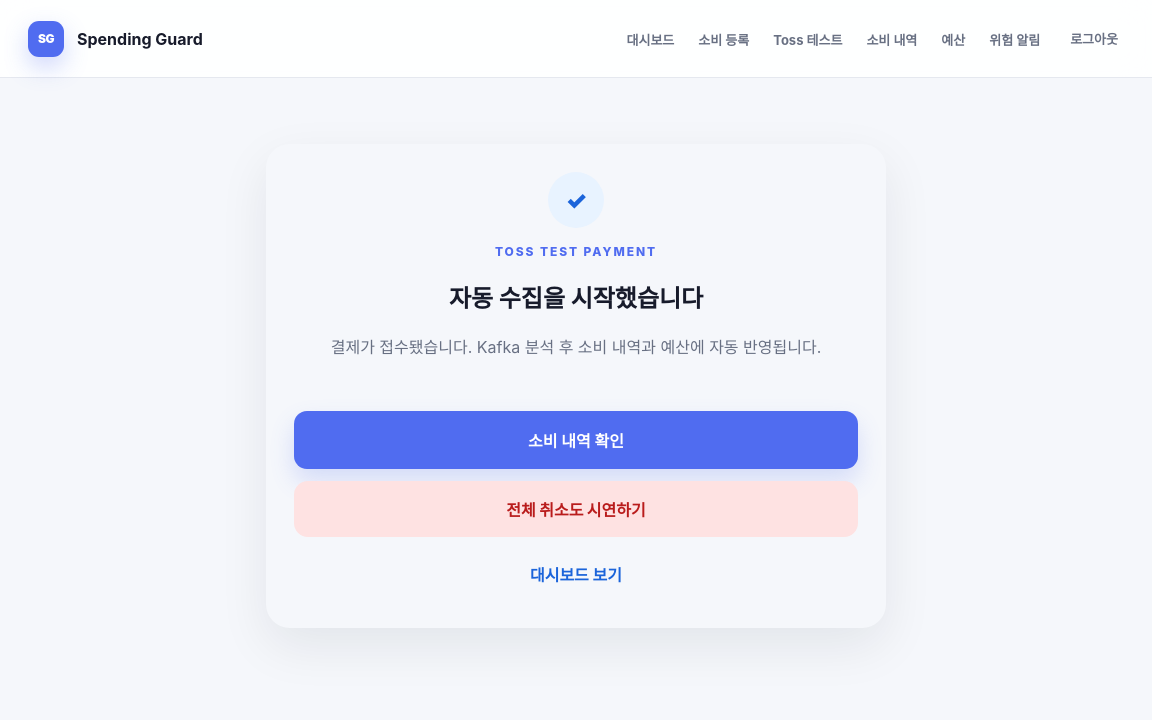
it: TossConfirmationView › confirms the payment and then demonstrates full cancellation
Check: the heading "자동 수집을 시작했습니다" is shown, box [449, 284, 703, 313]
Click the button "전체 취소도 시연하기": point(576, 508) [294, 480, 858, 536]
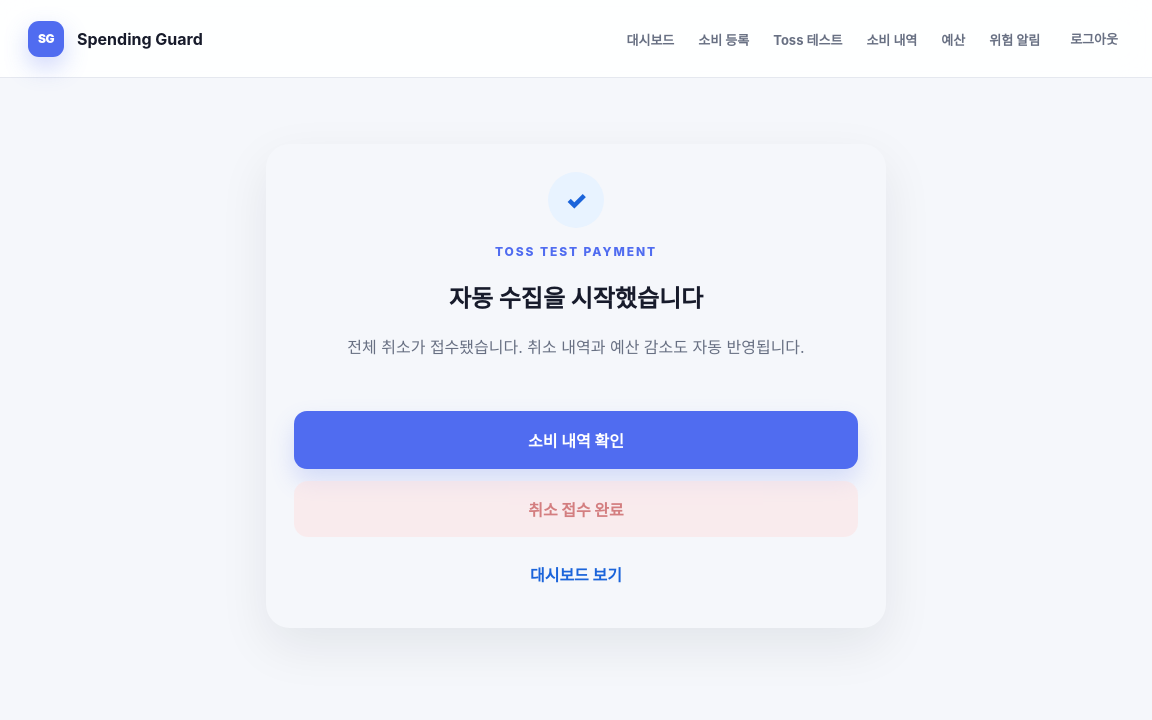
Check: the text "전체 취소가 접수됐습니다. 취소 내역과 예산 감소도 자동 반영됩니다." is shown, box [347, 337, 805, 357]
